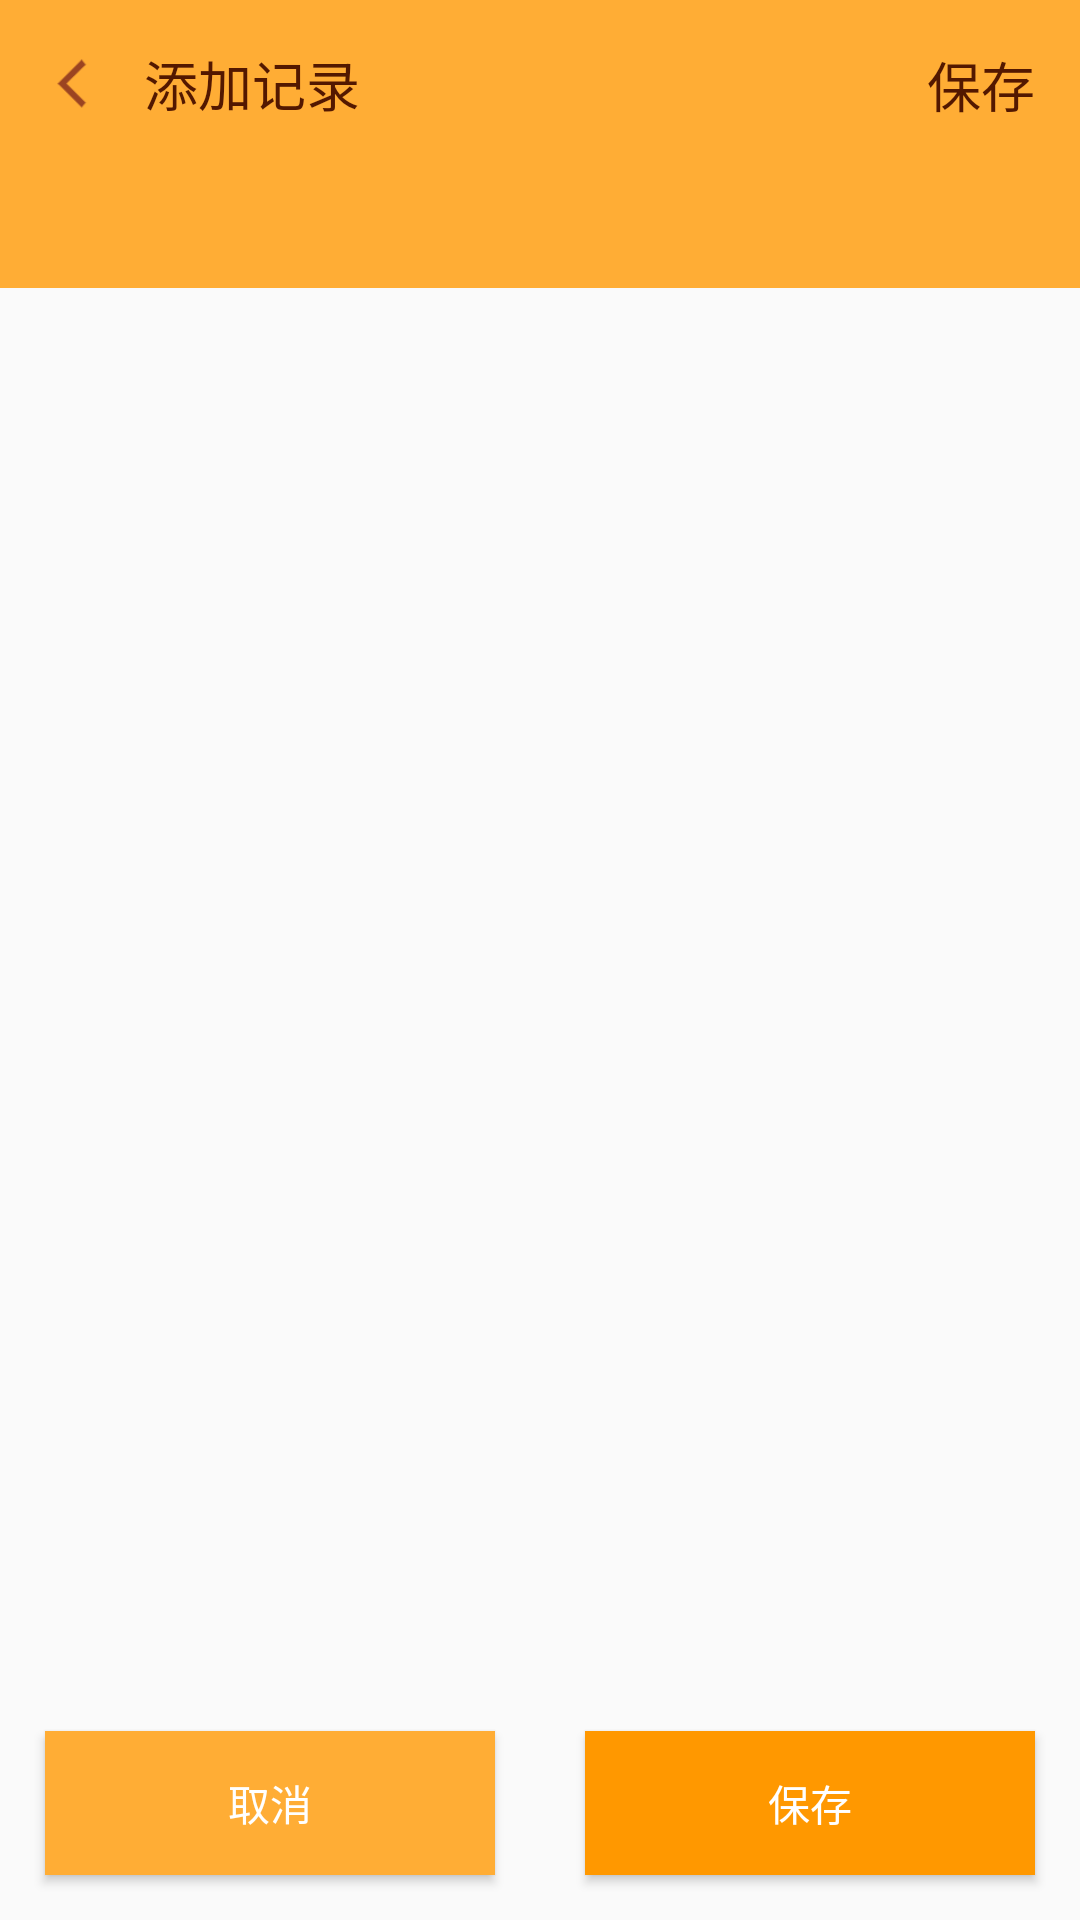

Where to tap for icons on this 1080 × 1920 app screen, as point (x, y):
back brown: point (71, 83)
